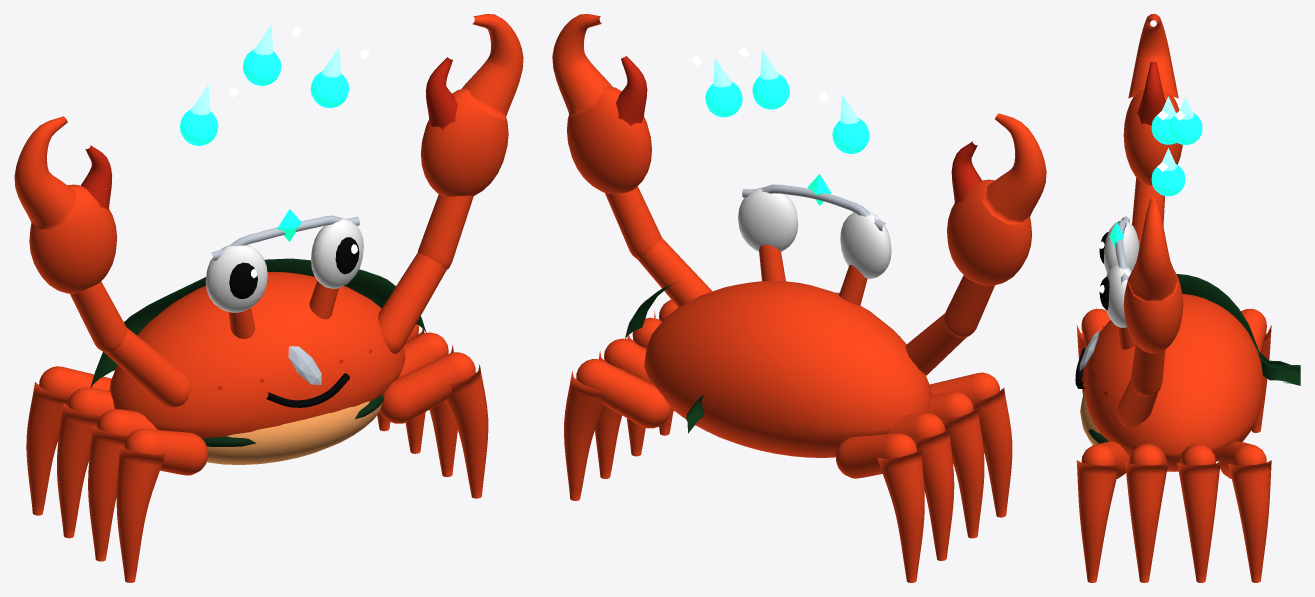
The model's file is crab.glb.
The picture shows the model from 3 angles, left to right: view 1: azimuth 30°, elevation 25°; view 2: azimuth 150°, elevation 25°; view 3: azimuth 270°, elevation 25°; orthographic projection. The views are drawn at different scales.
Parts seen in each view (by area): view 1: carapace, claw_palm_1, claw_palm_-1, cream_belly, outer_pincer_-10, leg_-1_01, outer_pincer_10, leg_1_00, leg_-1_21, arm_10, leg_-1_31, forest_cape (+24 smaller); view 2: carapace, claw_palm_1, claw_palm_-1, outer_pincer_-10, leg_-1_31, leg_1_30, outer_pincer_10, leg_-1_11, leg_-1_21, leg_1_31, leg_-1_01, eye_1 (+20 smaller); view 3: carapace, leg_1_31, leg_1_01, leg_1_21, leg_1_11, outer_pincer_10, claw_palm_1, claw_palm_-1, outer_pincer_-10, forest_cape, arm_11, arm_10 (+16 smaller).
Part boxes in pixels (x1,y1,x2,y2): carapace: [109, 271, 405, 438]; claw_palm_1: [420, 88, 508, 196]; claw_palm_-1: [29, 184, 117, 293]; cream_belly: [206, 401, 381, 464]; outer_pincer_-10: [14, 116, 80, 230]; leg_-1_01: [116, 445, 165, 582]; outer_pincer_10: [461, 14, 523, 120]; leg_1_00: [380, 352, 475, 423]; leg_-1_21: [57, 403, 101, 538]; arm_10: [378, 253, 446, 353]; leg_-1_31: [26, 382, 70, 515]; forest_cape: [90, 258, 426, 387]; carapace: [644, 281, 931, 457]; claw_palm_1: [567, 86, 651, 193]; claw_palm_-1: [947, 179, 1031, 285]; outer_pincer_-10: [982, 113, 1046, 224]; leg_-1_31: [877, 449, 924, 582]; leg_1_30: [576, 359, 671, 428]; outer_pincer_10: [552, 14, 612, 117]; leg_-1_11: [941, 407, 984, 538]; leg_-1_21: [913, 428, 954, 560]; leg_1_31: [564, 371, 606, 500]; leg_-1_01: [972, 388, 1012, 517]; eye_1: [738, 187, 798, 251]; carapace: [1084, 293, 1263, 471]; leg_1_31: [1228, 460, 1271, 582]; leg_1_01: [1076, 460, 1119, 582]; leg_1_21: [1177, 461, 1220, 582]; leg_1_11: [1125, 461, 1168, 582]; outer_pincer_10: [1128, 197, 1178, 301]; claw_palm_1: [1123, 270, 1183, 353]; claw_palm_-1: [1123, 89, 1182, 185]; outer_pincer_-10: [1128, 14, 1178, 98]; forest_cape: [1176, 274, 1300, 385]; arm_11: [1130, 344, 1165, 396]; arm_10: [1117, 380, 1158, 427].
Size of the model in its own units: 4.92 by 4.4 by 2.14.
